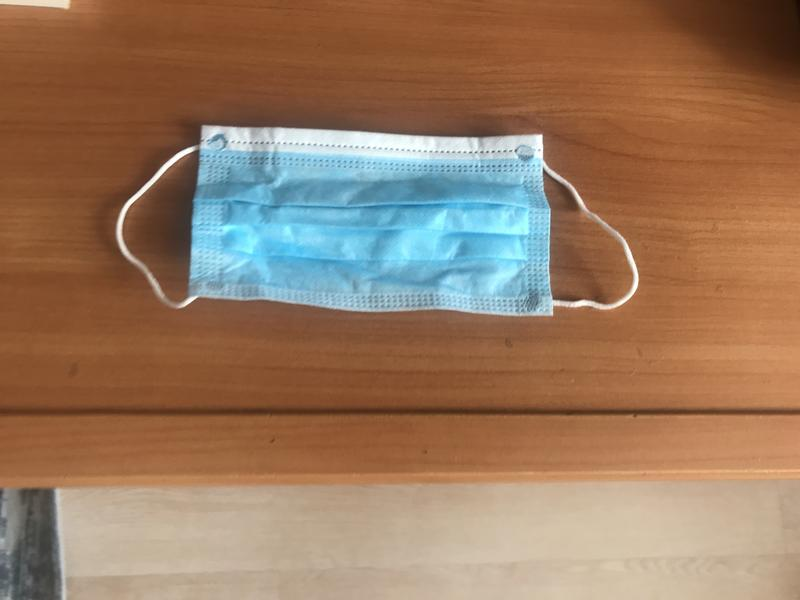medical_mask: (116, 123, 640, 314)
